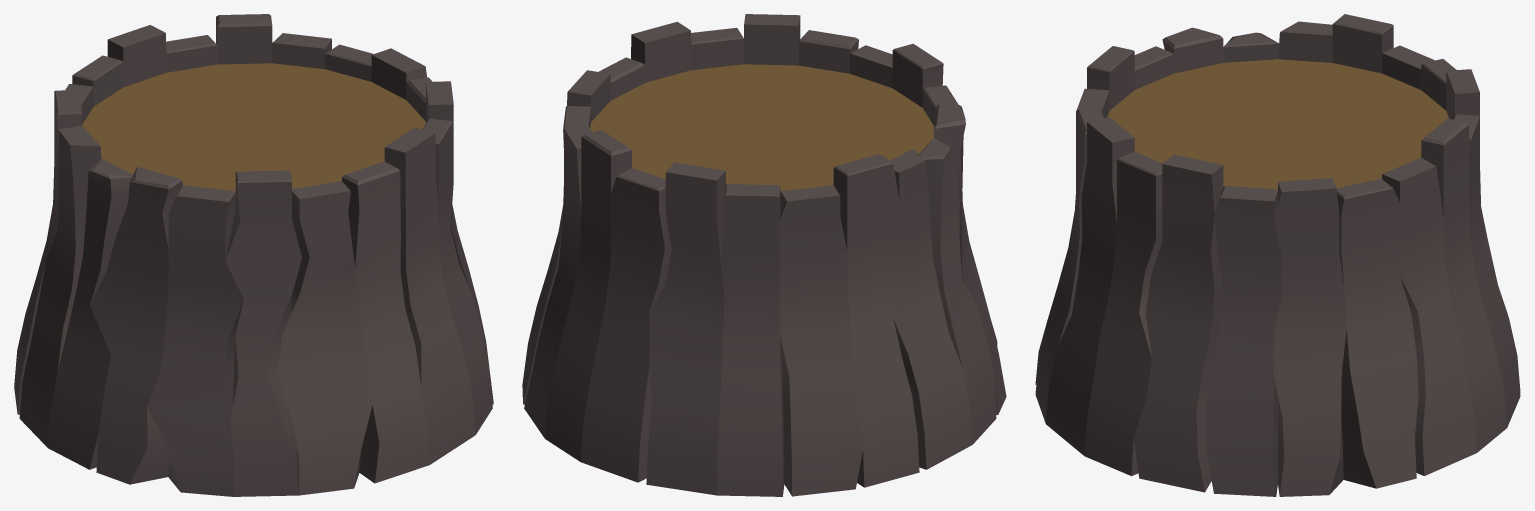
File: trunck.fbx
The picture shows the model from 3 angles, left to right: view 1: azimuth 30°, elevation 25°; view 2: azimuth 150°, elevation 25°; view 3: azimuth 270°, elevation 25°; orthographic projection.
Visible parts, largest first — view 1: ZLD_MOD_TRUNCK_wip_v003_0001:MOD_EXT_MARINE_HOUSE:tronck; view 2: ZLD_MOD_TRUNCK_wip_v003_0001:MOD_EXT_MARINE_HOUSE:tronck; view 3: ZLD_MOD_TRUNCK_wip_v003_0001:MOD_EXT_MARINE_HOUSE:tronck.
Boxes of the visible parts, x1=… form: ZLD_MOD_TRUNCK_wip_v003_0001:MOD_EXT_MARINE_HOUSE:tronck: x1=14, y1=14, x2=493, y2=496; ZLD_MOD_TRUNCK_wip_v003_0001:MOD_EXT_MARINE_HOUSE:tronck: x1=522, y1=14, x2=1006, y2=496; ZLD_MOD_TRUNCK_wip_v003_0001:MOD_EXT_MARINE_HOUSE:tronck: x1=1035, y1=14, x2=1520, y2=496.
Bounding box in the file's own units: 169 × 115 × 169.
